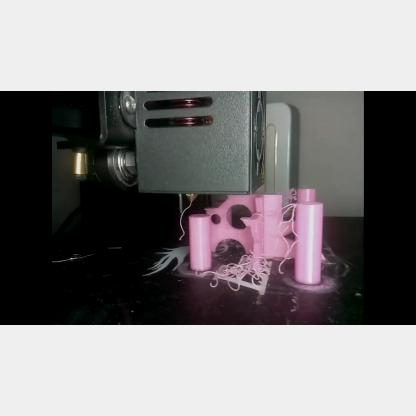fail: (214, 254, 268, 288), (274, 202, 298, 264)
